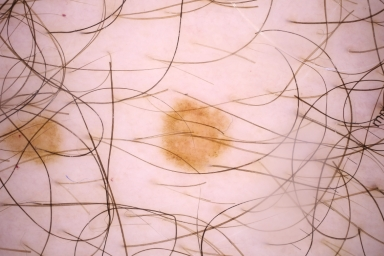nevus: (164, 105, 229, 167), (3, 120, 63, 162)
